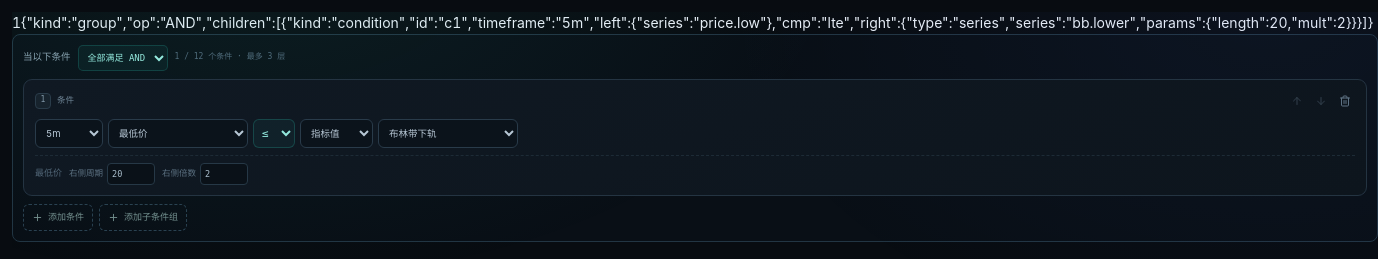
Test: RuleBuilder › accepts negative and decimal fixed thresholds without resetting the input
Step 1. Select "固定数值" in the dropdown named "条件 1 右侧类型" → coordinates (336, 133), box [300, 119, 373, 148]
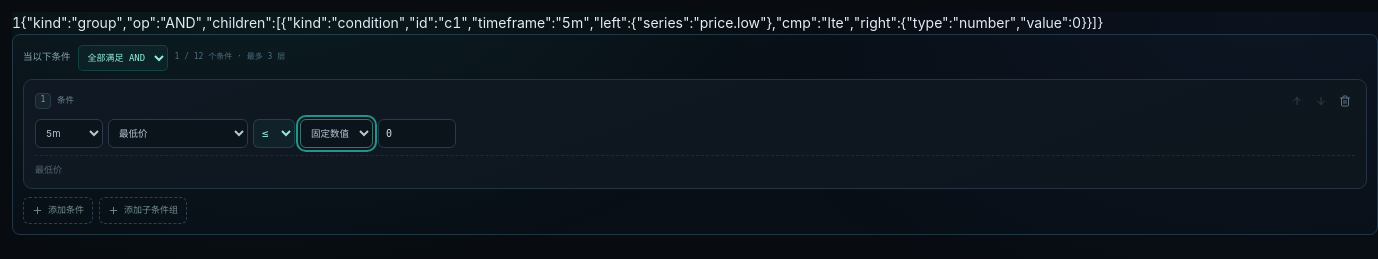
Step 2. Replace the text in the field named "条件 1 阈值" with "-1.25" → coordinates (417, 133), box [378, 119, 456, 148]
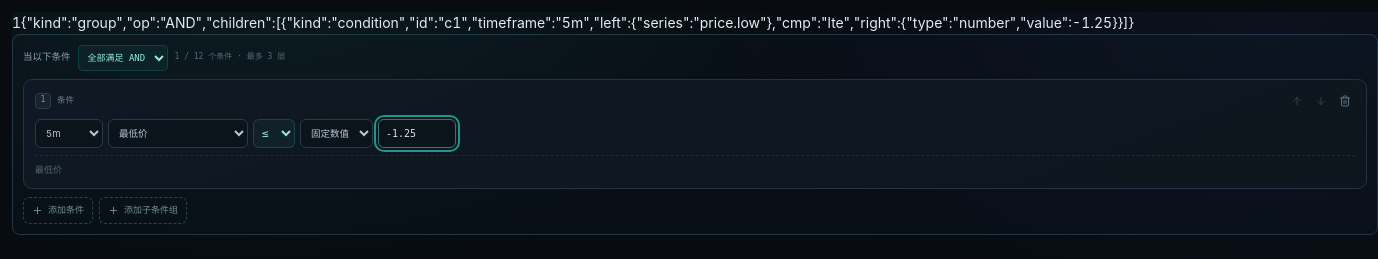
Now the text with test id "expression" shows "\"value\":-1.25", box [21, 14, 1134, 31]
Step 3. Replace the text in the field named "条件 1 阈值" with ".5" → coordinates (417, 133), box [378, 119, 456, 148]
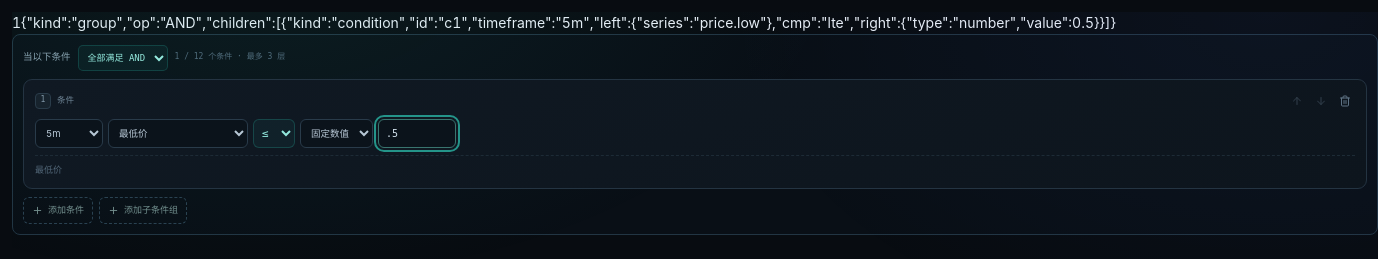
Now the text with test id "expression" shows "\"value\":0.5", box [21, 14, 1116, 31]
Step 4. Press Tab
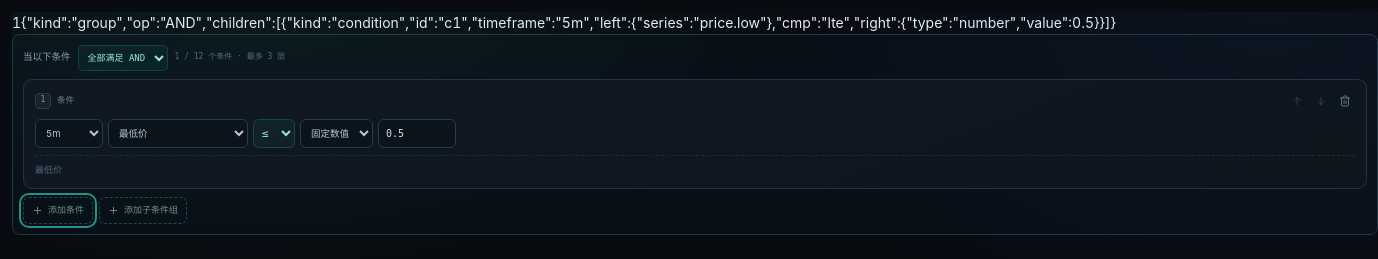
Now the field named "条件 1 阈值" holds "0.5", box [378, 119, 456, 148]
